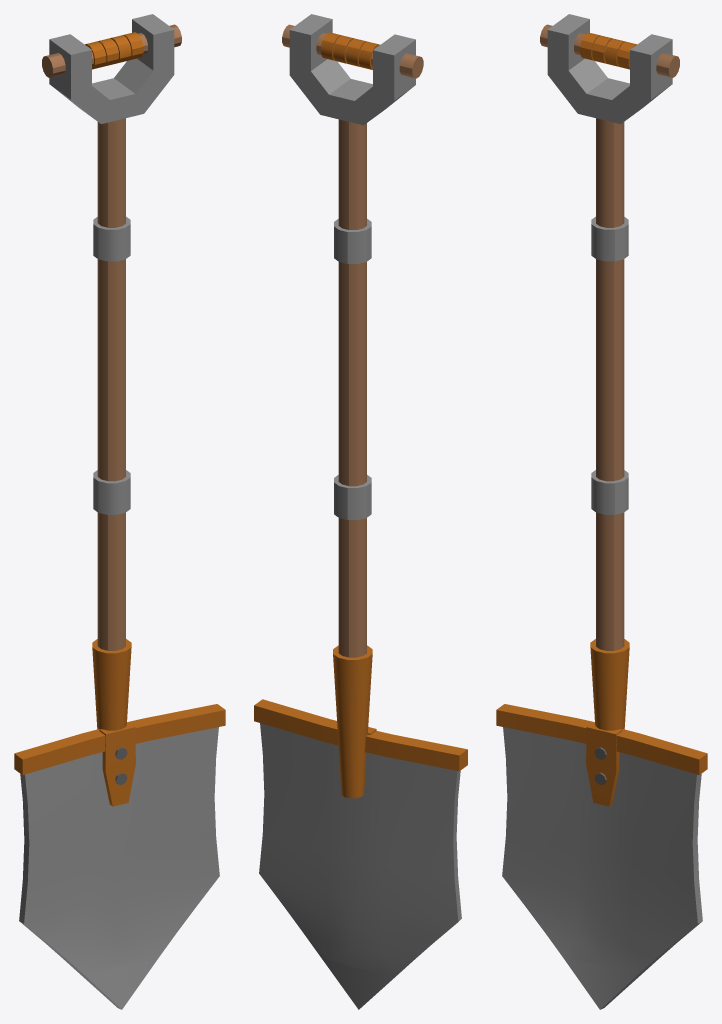
Rendered from Shovel_02.fbx.
The picture shows the model from 3 angles, left to right: view 1: azimuth 30°, elevation 25°; view 2: azimuth 150°, elevation 25°; view 3: azimuth 330°, elevation 25°; orthographic projection.
Visible parts, largest first — view 1: Shovel_02_LOD0; view 2: Shovel_02_LOD0; view 3: Shovel_02_LOD0.
Boxes of the visible parts, x1=… form: Shovel_02_LOD0: x1=14, y1=14, x2=225, y2=1009; Shovel_02_LOD0: x1=254, y1=14, x2=467, y2=1009; Shovel_02_LOD0: x1=496, y1=14, x2=707, y2=1009.
Size of what is drawn, in the model's own units: 0.2759 by 1.26 by 0.0542.
